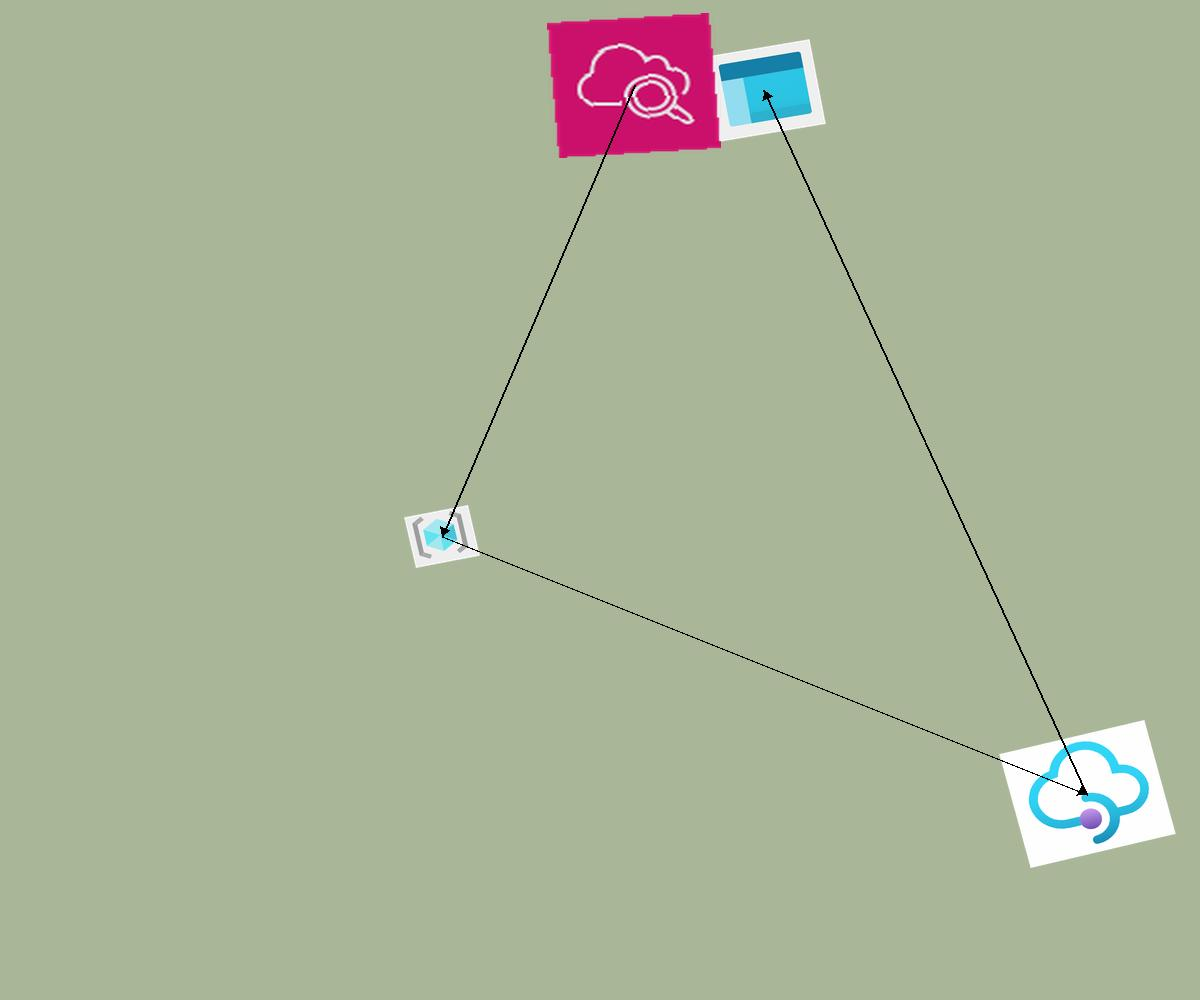AWS-CloudWatch: (547, 13, 721, 158)
Azure_api_gateway: (999, 720, 1176, 868)
Azure_management-portal: (703, 39, 826, 142)
Azure_resource_group: (404, 505, 480, 568)
